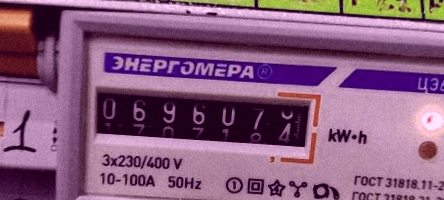0: (100, 94, 118, 119), (219, 100, 236, 126)
4: (275, 119, 293, 144)
6: (129, 96, 148, 121), (189, 99, 208, 124)
7: (249, 104, 266, 131)
9: (159, 98, 177, 123)
screen: (79, 71, 325, 161)
